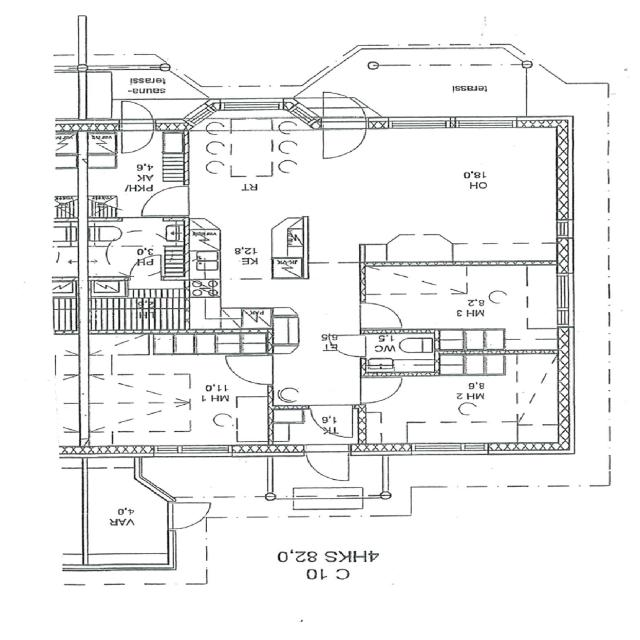door: (318, 101, 370, 162), (137, 182, 193, 219), (116, 99, 157, 148), (303, 445, 353, 484), (222, 354, 276, 386), (356, 299, 408, 331), (308, 404, 354, 439), (168, 498, 213, 530), (358, 374, 404, 404), (116, 124, 156, 156), (330, 334, 367, 358)
window: (210, 95, 296, 115), (552, 270, 578, 323), (384, 115, 451, 132), (408, 442, 486, 456), (157, 444, 233, 458), (453, 115, 518, 130), (163, 581, 189, 587)
zone: (84, 344, 271, 441), (359, 362, 548, 448), (360, 265, 562, 343), (83, 130, 188, 218), (84, 463, 168, 564), (84, 369, 197, 440), (86, 217, 187, 281), (86, 278, 186, 332), (363, 331, 438, 364), (308, 404, 357, 438), (49, 281, 79, 334)
